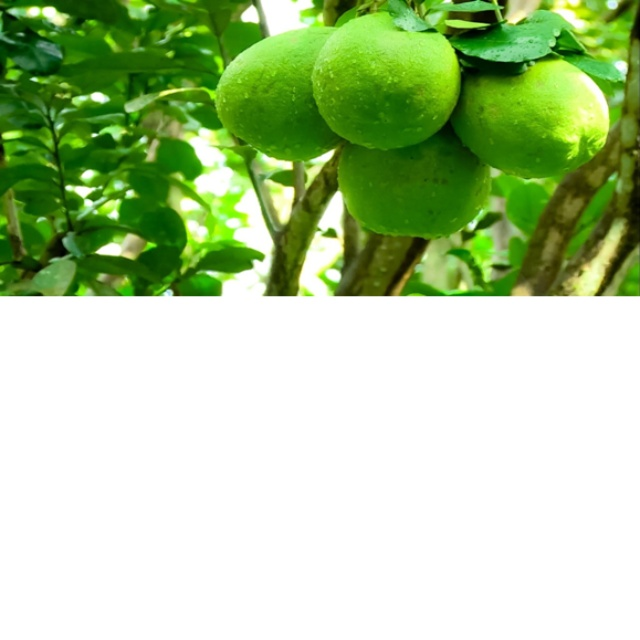buoi: (448, 41, 611, 182), (311, 8, 468, 151)
